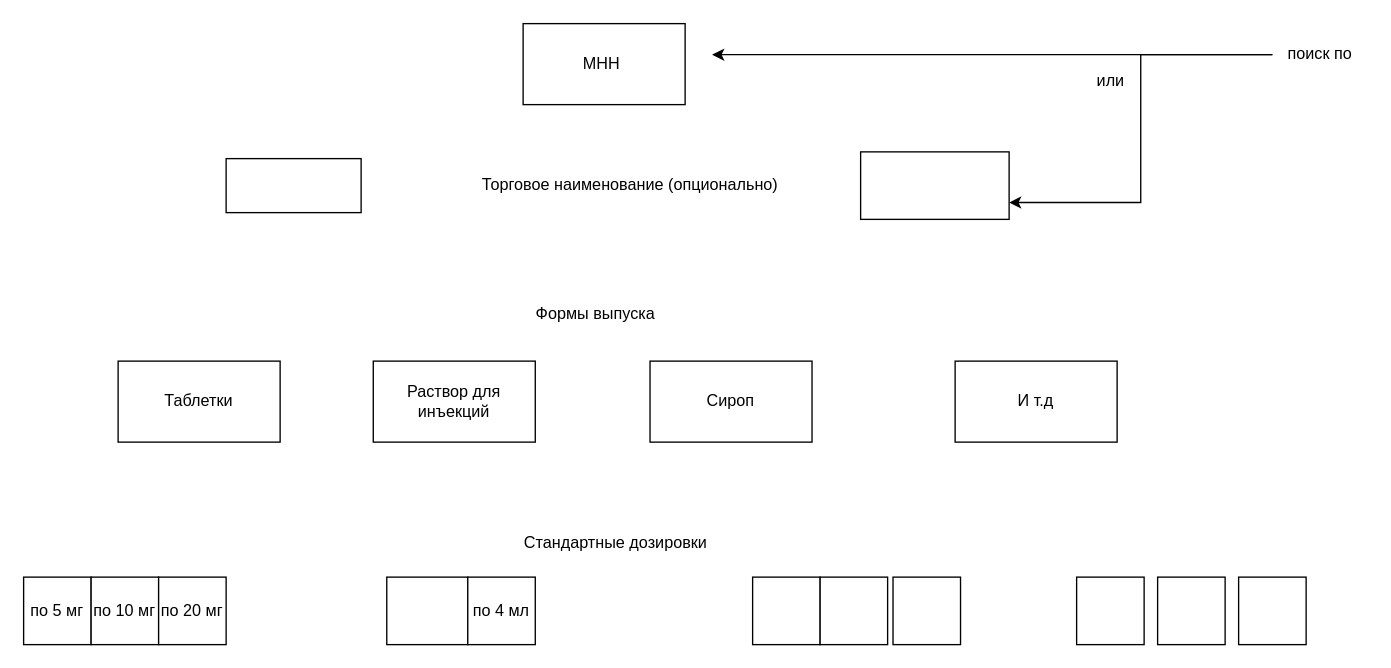
Some shapes in this 1391 by 668 pixel diagram are drawn without their labels. Here are the shapes that lost their labels. From the top down, the box of each, then its label:
(225, 157, 361, 213): Торговое наименование 1
(859, 151, 1009, 219): Торговое наименование 2
(385, 576, 468, 645): по 1 мл
